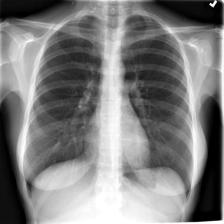normal: (18, 11, 197, 203)
